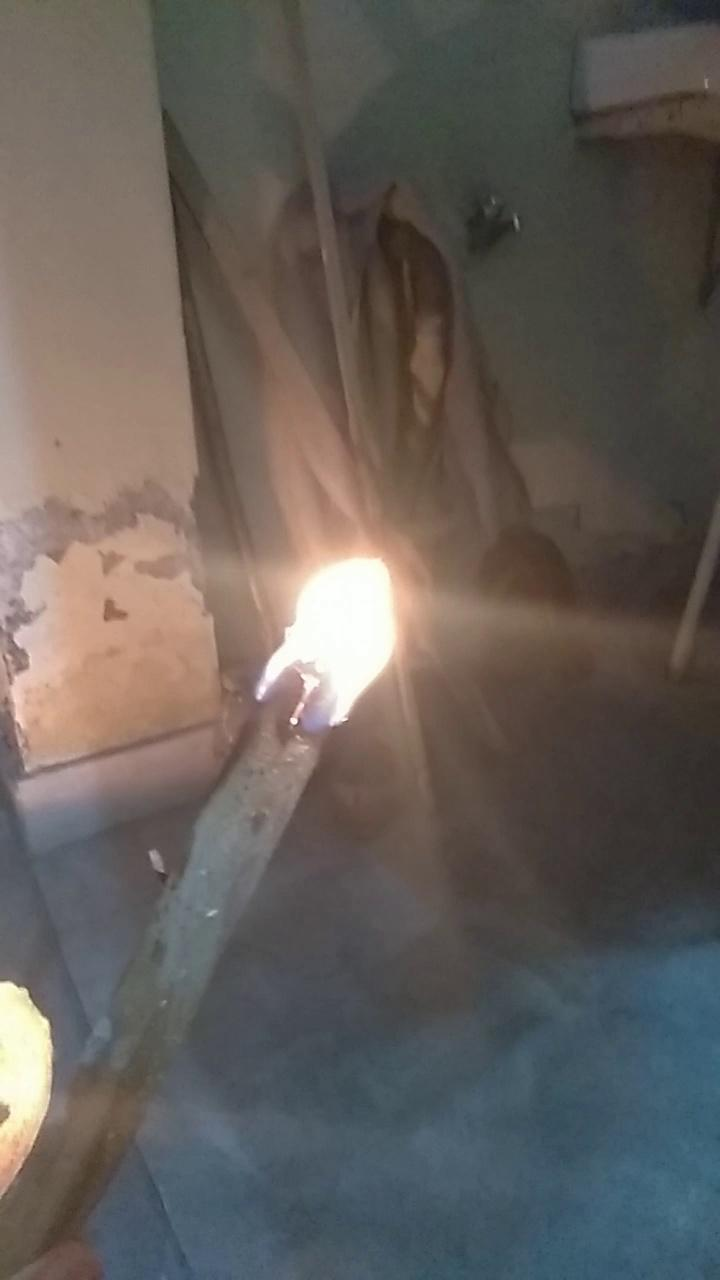fire: (244, 520, 436, 731)
